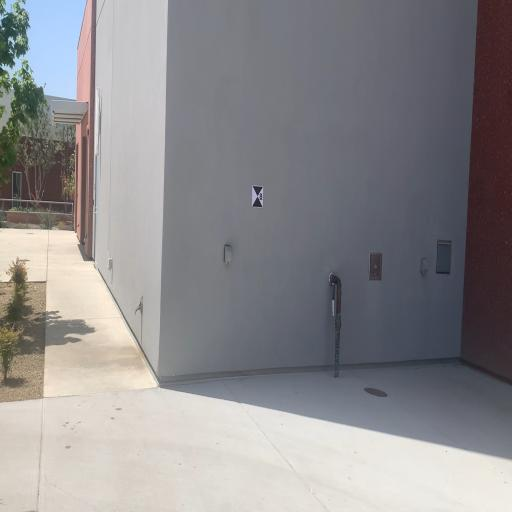target8: (252, 185, 264, 208)
